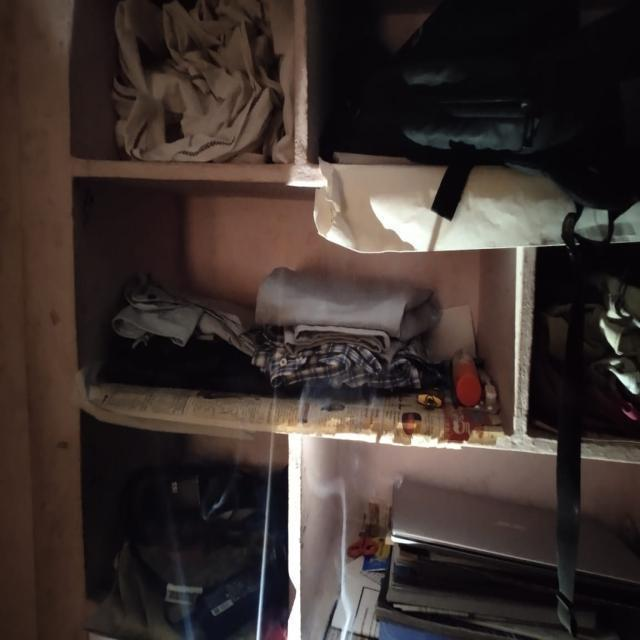fire: (290, 424, 358, 640)
